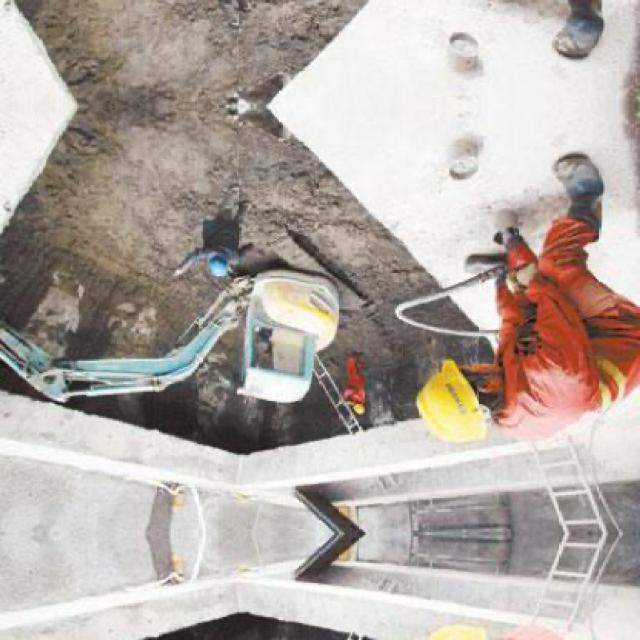con casco: (415, 340, 541, 456)
